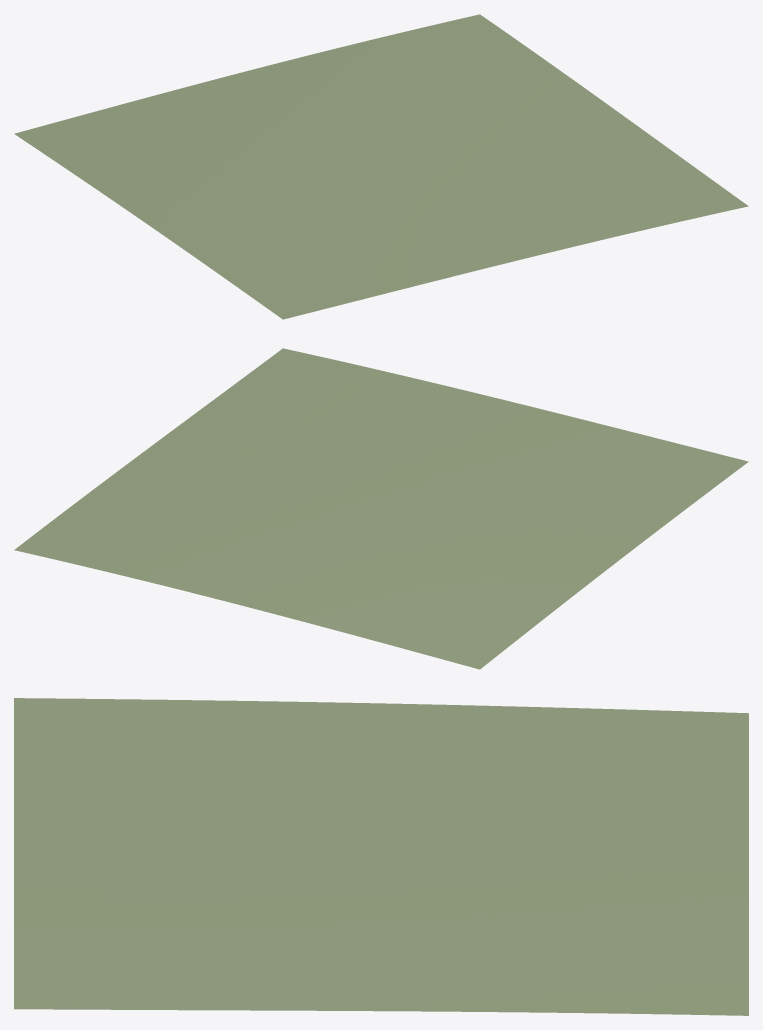
File: expanse-1-21.glb
3 renders of one model, top to bottom at view 1: azimuth 30°, elevation 25°; view 2: azimuth 150°, elevation 25°; view 3: azimuth 270°, elevation 25°, orthographic. The views are drawn at different scales.
Parts seen in each view (by area): view 1: expanse-1-21; view 2: expanse-1-21; view 3: expanse-1-21.
Boxes of the visible parts, x1,y1,x2,y2 form: expanse-1-21: (14, 14, 748, 319); expanse-1-21: (14, 348, 748, 669); expanse-1-21: (14, 698, 748, 1015).
Bounding box in the file's own units: 256 × 6.84 × 256.
